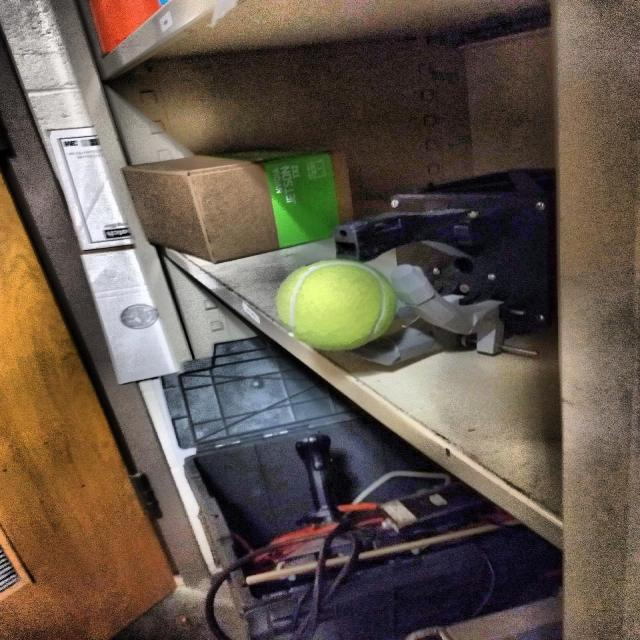tennis-ball: (263, 255, 419, 360)
